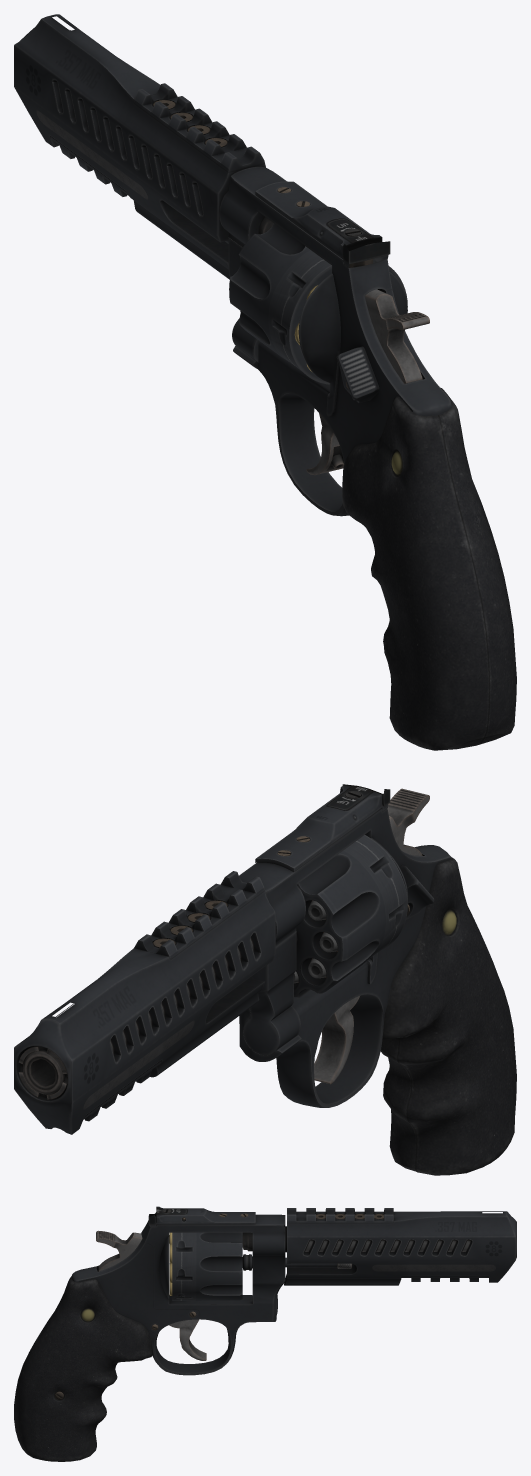
Rendered from magnum_357.glb.
The picture shows the model from 3 angles, top to bottom: view 1: azimuth 30°, elevation 25°; view 2: azimuth 150°, elevation 25°; view 3: azimuth 270°, elevation 25°; orthographic projection. The views are drawn at different scales.
Bounding box in the file's own units: 0.0436 × 0.1525 × 0.285.
1 material, 1 textured.
